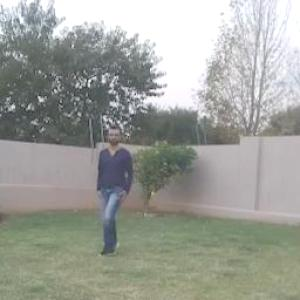follow: (94, 125, 131, 252)
